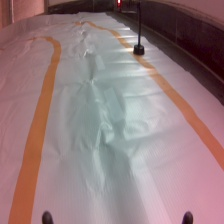red: (110, 1, 146, 57)
